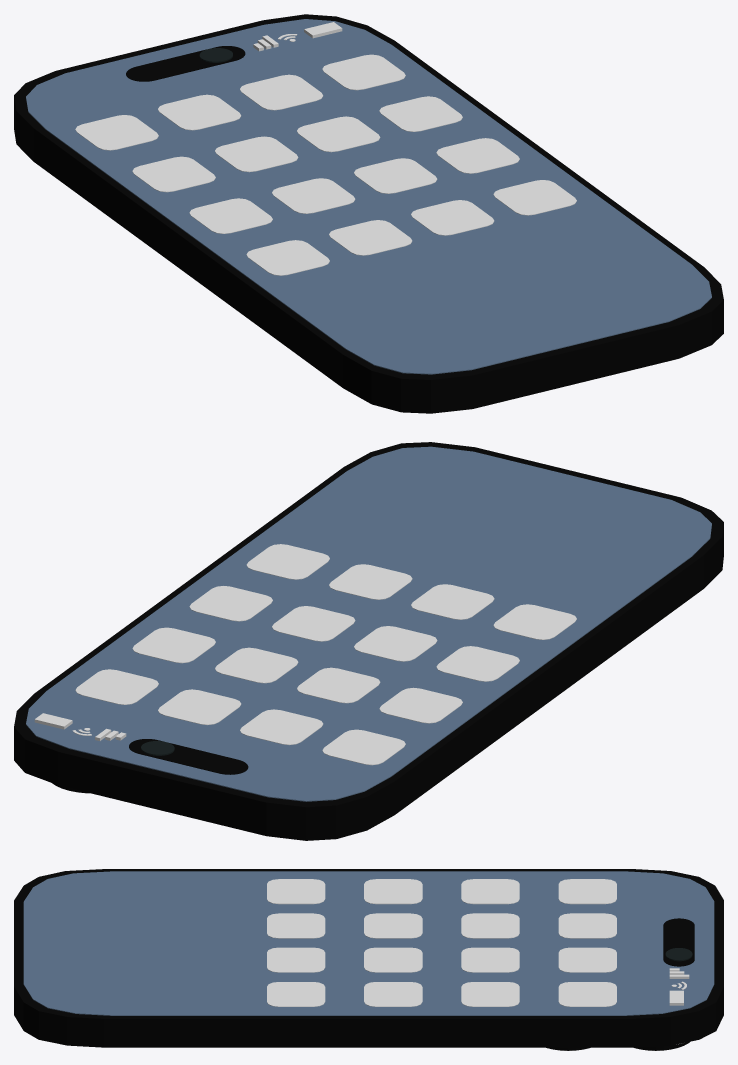
The model's file is PHONE.fbx.
3 views of the same model, one above another, from view 1: azimuth 30°, elevation 25°; view 2: azimuth 150°, elevation 25°; view 3: azimuth 270°, elevation 25° (orthographic). The views are drawn at different scales.
Parts seen in each view (by area): view 1: Cube.003, Cube.002, Cube.017, Cube.022, Cube.020, Cube.018, Cube.016, Cube.023, Cube.010, Cube.019, Cube.013, Cube.012 (+7 smaller); view 2: Cube.003, Cube.002, Cube.019, Cube.012, Cube.017, Cube.023, Cube.022, Cube.021, Cube.008, Cube.015, Cube.016, Cube.020 (+7 smaller); view 3: Cube.003, Cube.002, Cube.015, Cube.008, Cube.009, Cube.011, Cube.014, Cube.016, Cube.012, Cube.017, Cube.022, Cube.023 (+8 smaller).
Part boxes in pixels (box(x1,y1,x2,y2)): Cube.003: box(26, 19, 711, 374); Cube.002: box(14, 14, 723, 413); Cube.017: box(354, 158, 437, 193); Cube.022: box(411, 200, 494, 235); Cube.020: box(246, 240, 329, 275); Cube.018: box(436, 138, 519, 173); Cube.016: box(272, 178, 355, 213); Cube.023: box(329, 220, 412, 255); Cube.010: box(322, 54, 405, 90); Cube.019: box(189, 198, 272, 233); Cube.013: box(379, 96, 462, 131); Cube.012: box(132, 156, 215, 192); Cube.003: box(26, 446, 711, 801); Cube.002: box(14, 442, 723, 840); Cube.019: box(436, 646, 519, 681); Cube.012: box(379, 687, 462, 723); Cube.017: box(272, 606, 355, 641); Cube.023: box(411, 584, 494, 619); Cube.022: box(329, 564, 412, 599); Cube.021: box(246, 544, 329, 579); Cube.008: box(240, 709, 323, 745); Cube.015: box(297, 667, 380, 703); Cube.016: box(354, 626, 437, 661); Cube.020: box(493, 604, 576, 639); Cube.003: box(23, 871, 714, 1015); Cube.002: box(14, 869, 723, 1047); Cube.015: box(461, 913, 519, 938); Cube.008: box(558, 913, 616, 938); Cube.009: box(558, 947, 616, 972); Cube.011: box(558, 879, 616, 904); Cube.014: box(461, 947, 519, 972); Cube.016: box(364, 913, 422, 938); Cube.012: box(461, 879, 519, 904); Cube.017: box(364, 947, 422, 972); Cube.022: box(267, 947, 325, 972); Cube.023: box(267, 913, 325, 938).
Bounding box in the file's own units: 14.6 × 2.3 × 29.2.
